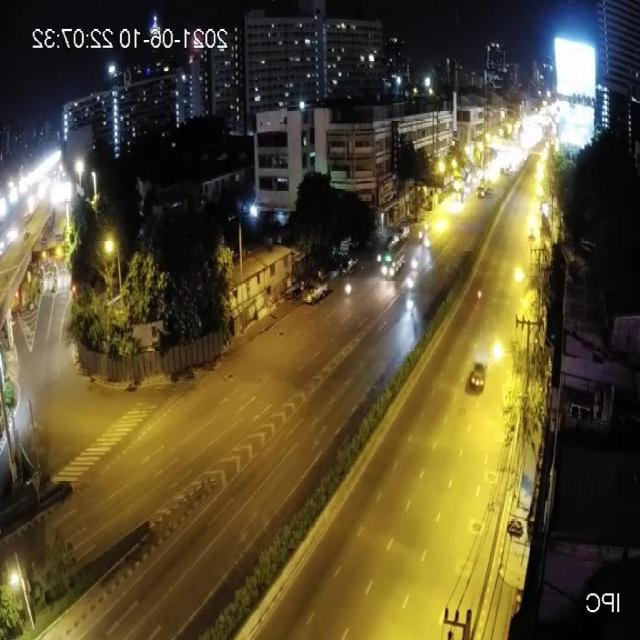Car: (468, 360, 489, 395)
Truck: (381, 238, 405, 281)
